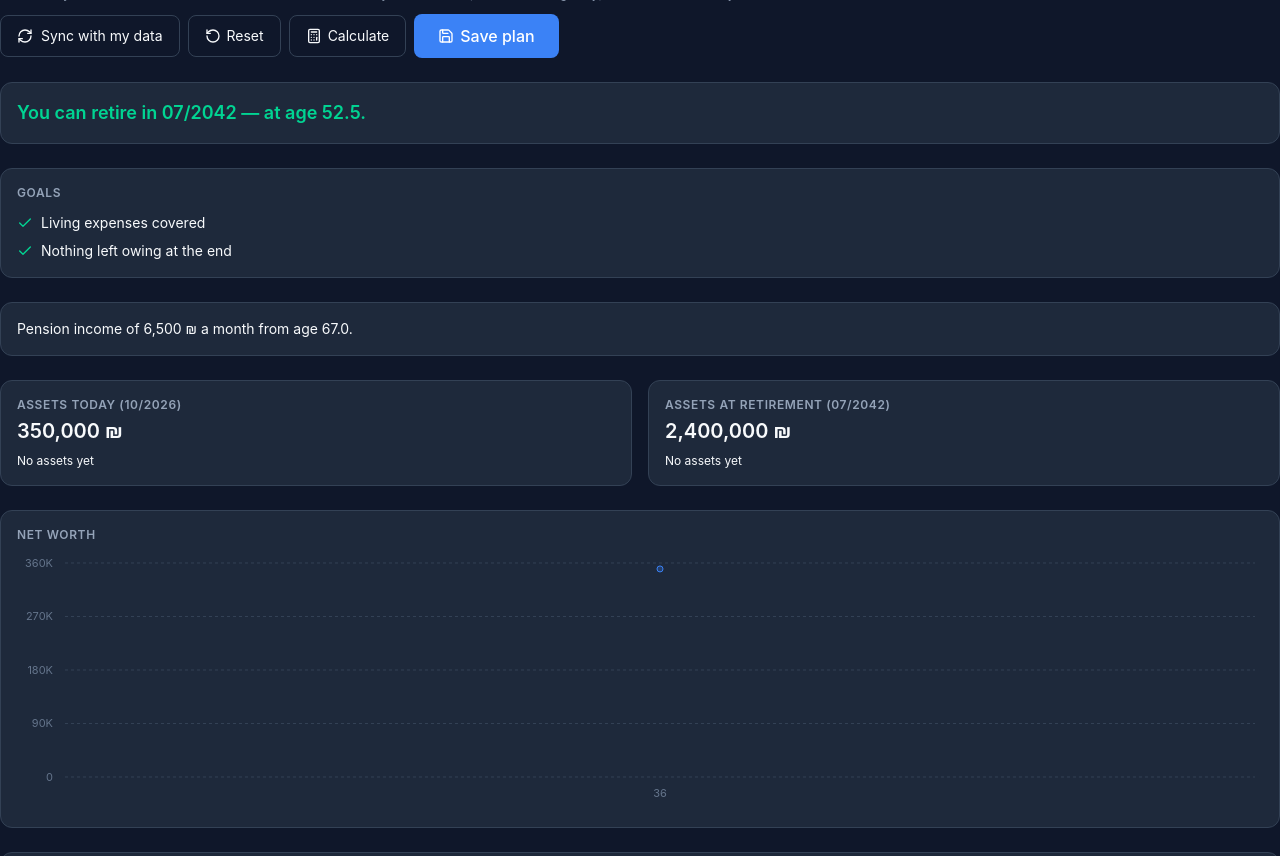
Test: EarlyRetirement › sync adds the tracked accounts the plan does not hold yet
The image size is (1280, 856).
Click the button with test id "fire-plan-sync".
click(90, 36)  # box [0,15,180,57]
(page scrolled)
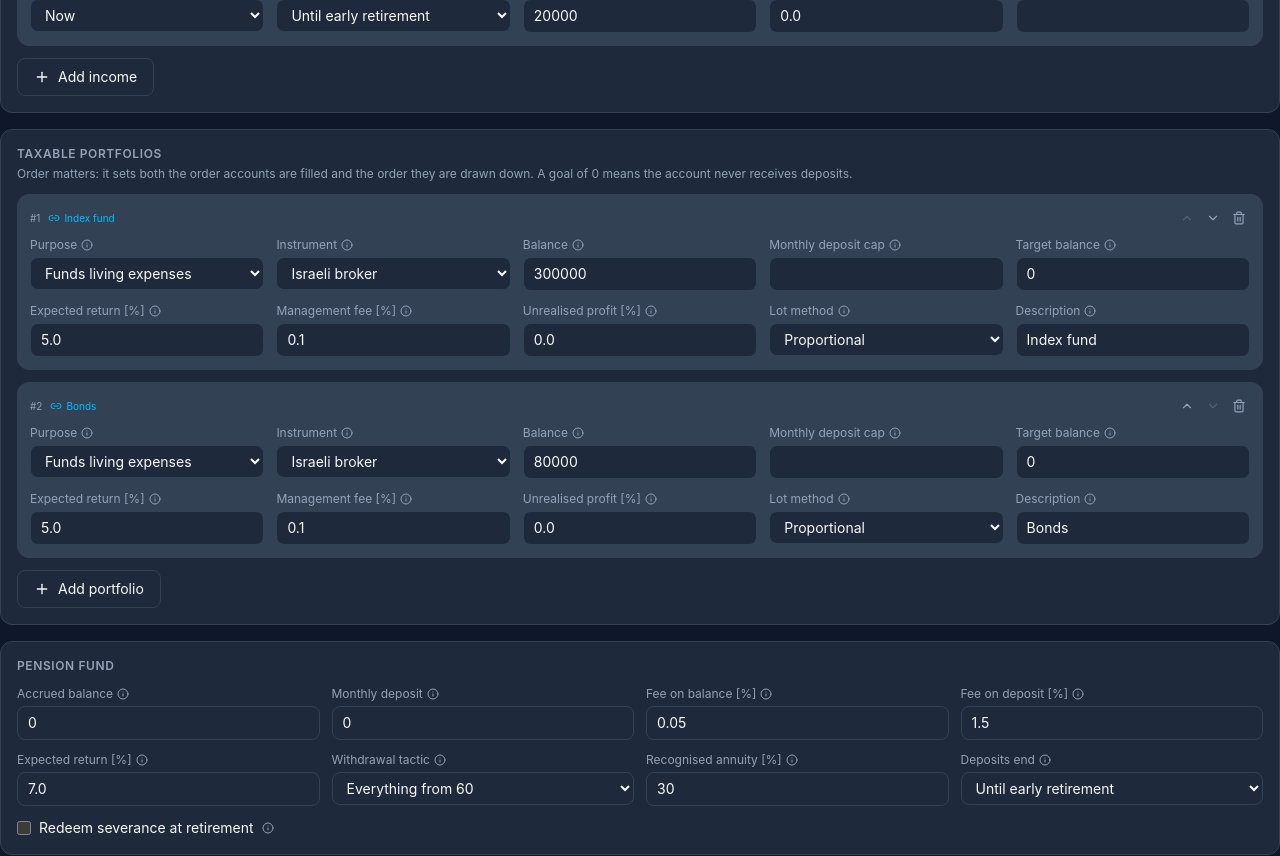
Expected: the text "Bonds" is shown, [66,398,96,414]
